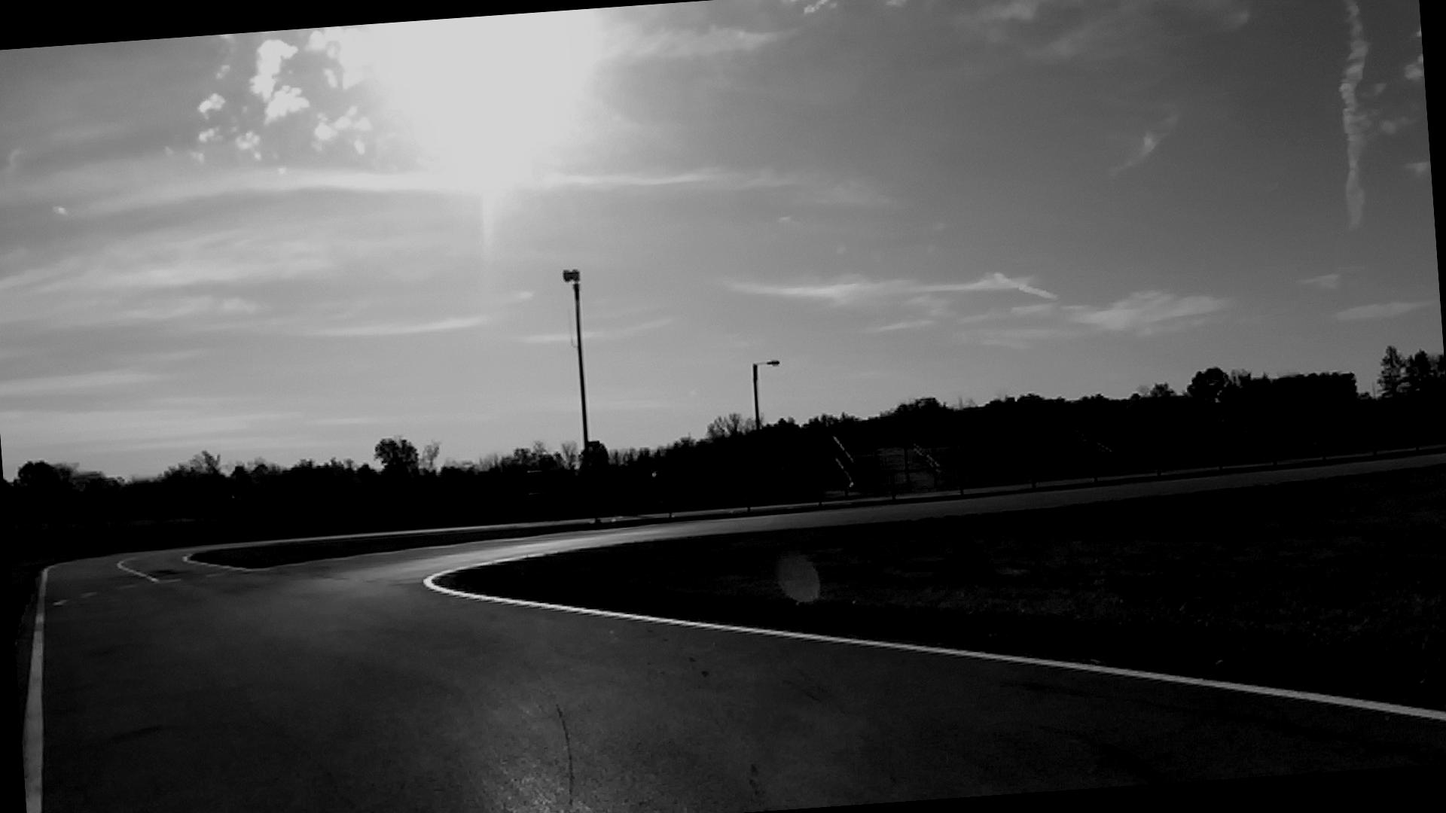white-line: (424, 552, 1446, 721), (22, 566, 53, 813), (149, 575, 182, 582), (53, 598, 67, 606), (83, 592, 97, 597)
